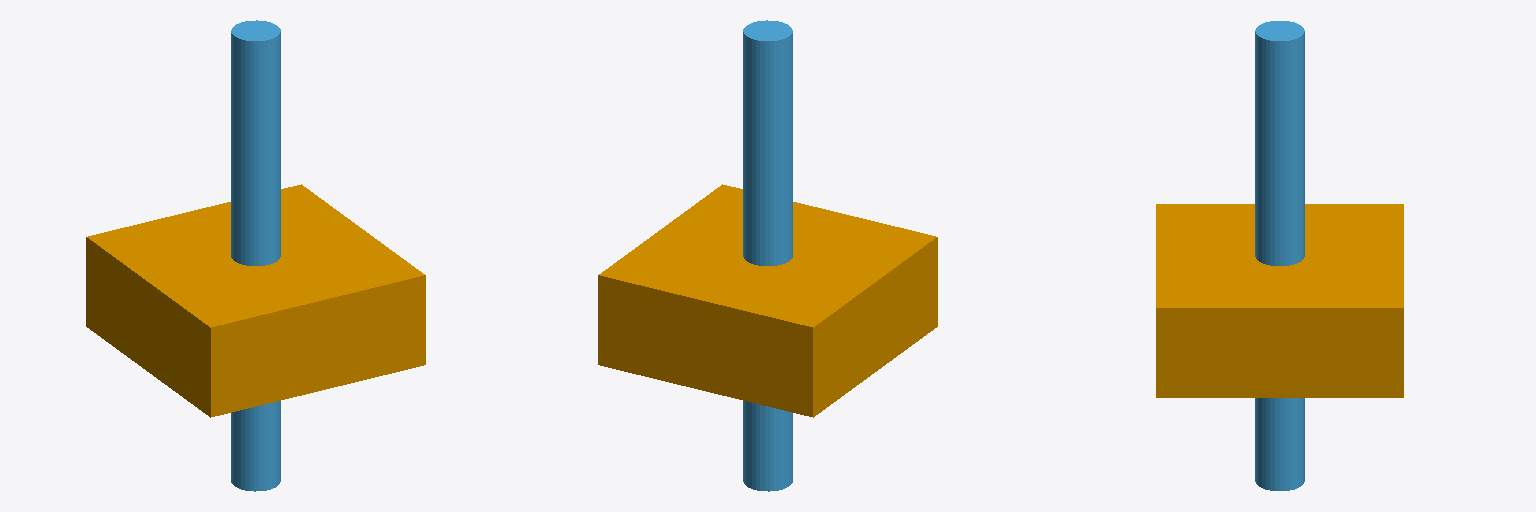
The robot description file, URDF, robot "simple_arm":
<robot name="simple_arm">
    <link name="base_link">
        <visual>
            <geometry>
                <box size="0.5 0.5 0.2"/>
            </geometry>
            <material name="green"/>
        </visual>
    </link>
    <joint name="joint1" type="continuous">
        <parent link="base_link"/>
        <child link="link1"/>
        <origin xyz="0 0 0.1" rpy="0 0 0"/>
        <axis xyz="0 0 1"/>
    </joint>
    <link name="link1">
    <inertial>
	<mass value="1.0"/>
	<inertia ixx="0.1" ixy="0.0" ixz="0.0" iyy="0.1" iyz="0.0" izz="0.1"/>
    </inertial>
    <visual>
	<geometry>
	    <cylinder radius="0.05" length="1.0"/>
	</geometry>
    </visual>
</link>
    <!-- More joints and links -->
</robot>

--- Facts derived from the render (not from the file) ---
The picture shows the robot from 3 angles, left to right: view 1: azimuth 30°, elevation 25°; view 2: azimuth 150°, elevation 25°; view 3: azimuth 270°, elevation 25°; orthographic projection.
Robot: simple_arm — 2 links, 1 joints (1 continuous); root link base_link; default pose: every joint at zero.
Links seen in each view (by area): view 1: base_link, link1; view 2: base_link, link1; view 3: base_link, link1.
Boxes of the visible links, x1,y1,x2,y2 form: base_link: [86, 184, 425, 417]; link1: [231, 20, 280, 491]; base_link: [598, 184, 937, 417]; link1: [743, 20, 792, 491]; base_link: [1156, 204, 1403, 397]; link1: [1255, 21, 1304, 490].
Bounding box of the posed robot: 0.5 × 0.5 × 1 m (x, y, z).
Geometry: primitives only (box / cylinder / sphere), no mesh files.